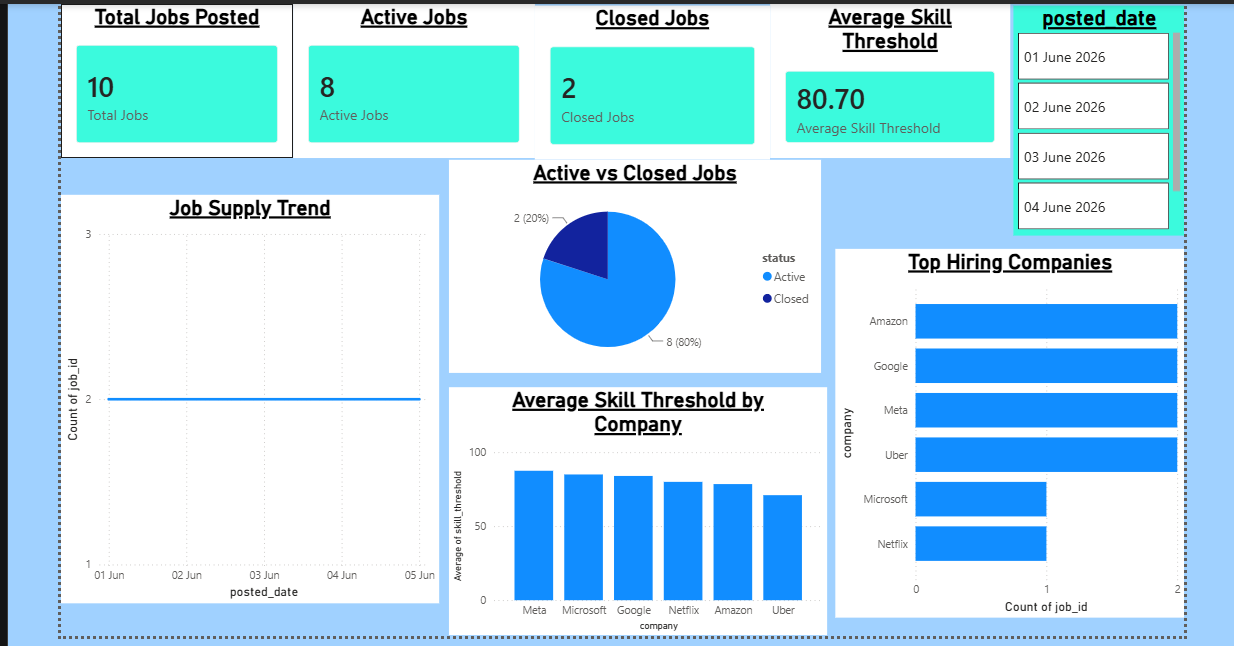

Layout of this report page (visuals, bound fields, positions):
{"tool":"powerbi","page":{"name":"Page 1","canvas":[1280,720],"ordinal":0},"visuals":[{"type":"cardVisual","title":"Total Jobs Posted","fields":{"Data":["jobs.Total Jobs"]},"box":[0,0,264.5,175.7],"z":0},{"type":"cardVisual","title":"Active Jobs","fields":{"Data":["jobs.Active Jobs"]},"box":[264.5,0,275.3,175.7],"z":1000},{"type":"cardVisual","title":"Closed Jobs","fields":{"Data":["jobs.Closed Jobs"]},"box":[539.8,1.8,268.1,175.7],"z":2000},{"type":"cardVisual","title":"Average Skill Threshold","fields":{"Data":["jobs.Average Skill Threshold"]},"box":[807.9,0,273.5,175.7],"z":3000},{"type":"lineChart","title":"Job Supply Trend","fields":{"Y":["CountNonNull(jobs.job_id)"],"Category":["jobs.posted_date"]},"box":[0,217.4,431.1,465.5],"z":4000},{"type":"clusteredBarChart","title":"Top Hiring Companies","fields":{"Category":["jobs.company"],"Y":["CountNonNull(jobs.job_id)"]},"box":[882.1,279,398.5,420.2],"z":5000},{"type":"pieChart","title":"Active vs Closed Jobs","fields":{"Category":["jobs.status"],"Y":["CountNonNull(jobs.job_id)"]},"box":[442,177.5,423.9,242.7],"z":6000},{"type":"clusteredColumnChart","title":"Average Skill Threshold by Company","fields":{"Y":["Avg(jobs.skill_threshold)"],"Category":["jobs.company"]},"box":[442,436.5,431.1,282.6],"z":7000},{"type":"advancedSlicerVisual","fields":{"Values":["jobs.posted_date"]},"box":[1085,1.8,195.6,260.8],"z":8000}]}

Visuals, with their boxes in screenshot pixels (x1, y1, x2, y2):
"Total Jobs Posted" cardVisual: [55,0,289,155]
"Active Jobs" cardVisual: [289,0,532,155]
"Closed Jobs" cardVisual: [532,2,769,157]
"Average Skill Threshold" cardVisual: [769,0,1011,155]
"Job Supply Trend" lineChart: [55,192,436,604]
"Top Hiring Companies" clusteredBarChart: [835,247,1188,619]
"Active vs Closed Jobs" pieChart: [446,157,821,372]
"Average Skill Threshold by Company" clusteredColumnChart: [446,386,827,636]
advancedSlicerVisual - jobs.posted_date: [1015,2,1188,232]
